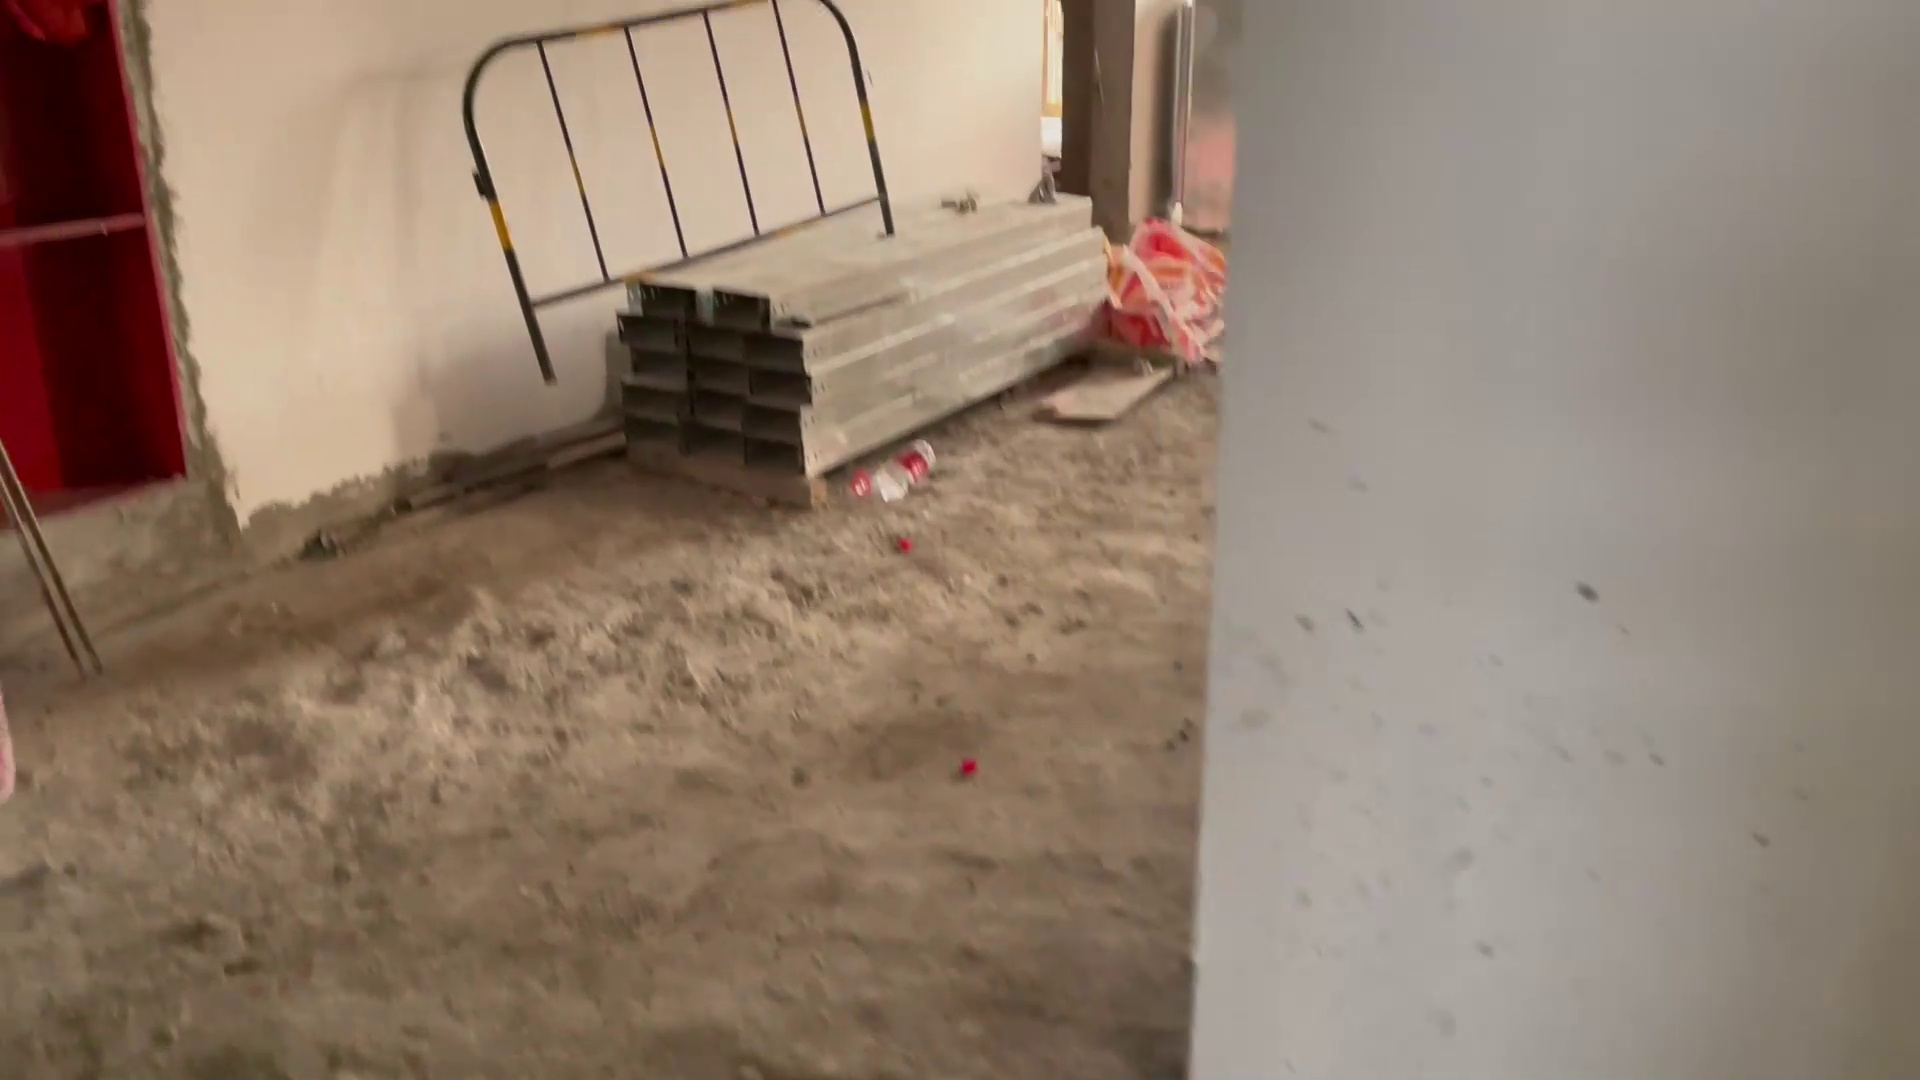fence: (431, 7, 918, 339)
